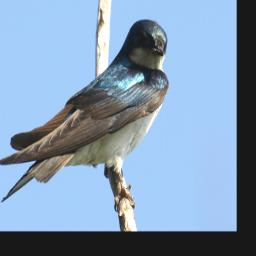Swallow: (0, 19, 169, 215)
